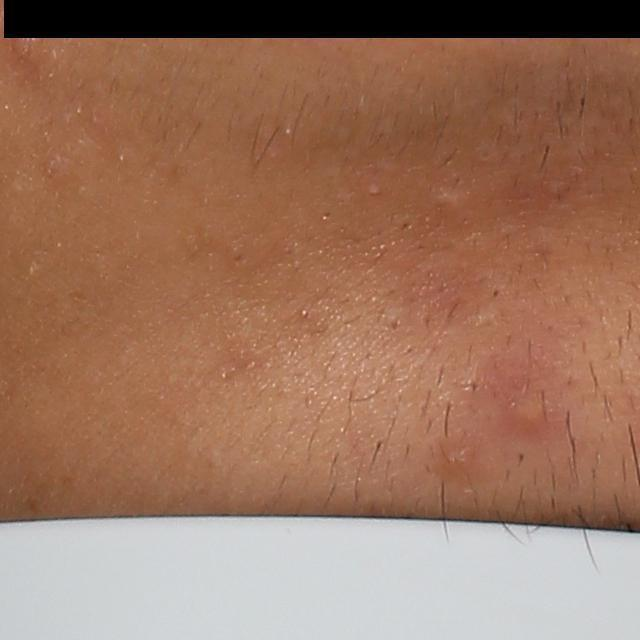comedo: (489, 285, 502, 299)
hypertrophic_scar: (433, 185, 485, 215)
pustule: (486, 381, 557, 438)
